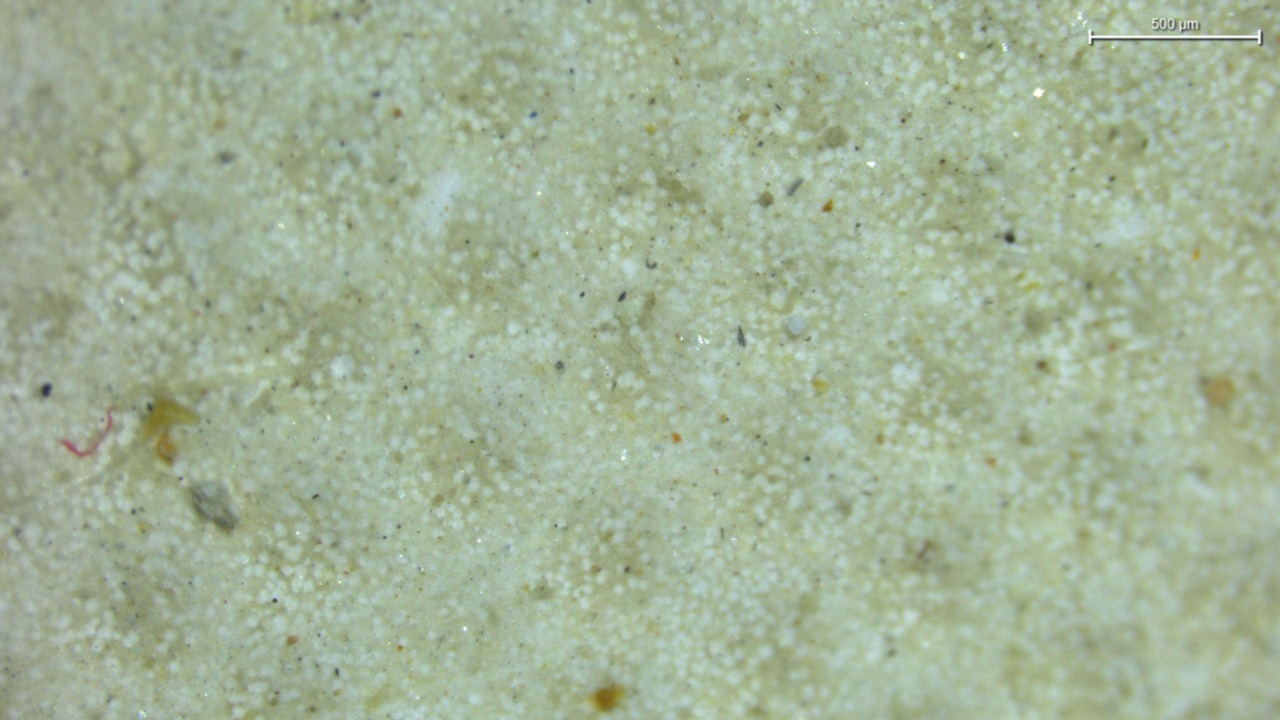microplastic_fragment: (190, 482, 238, 530), (784, 315, 808, 335)
